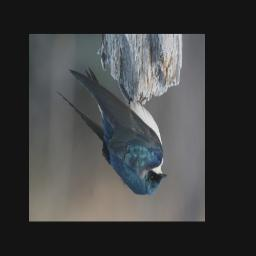Swallow: (55, 67, 166, 196)
